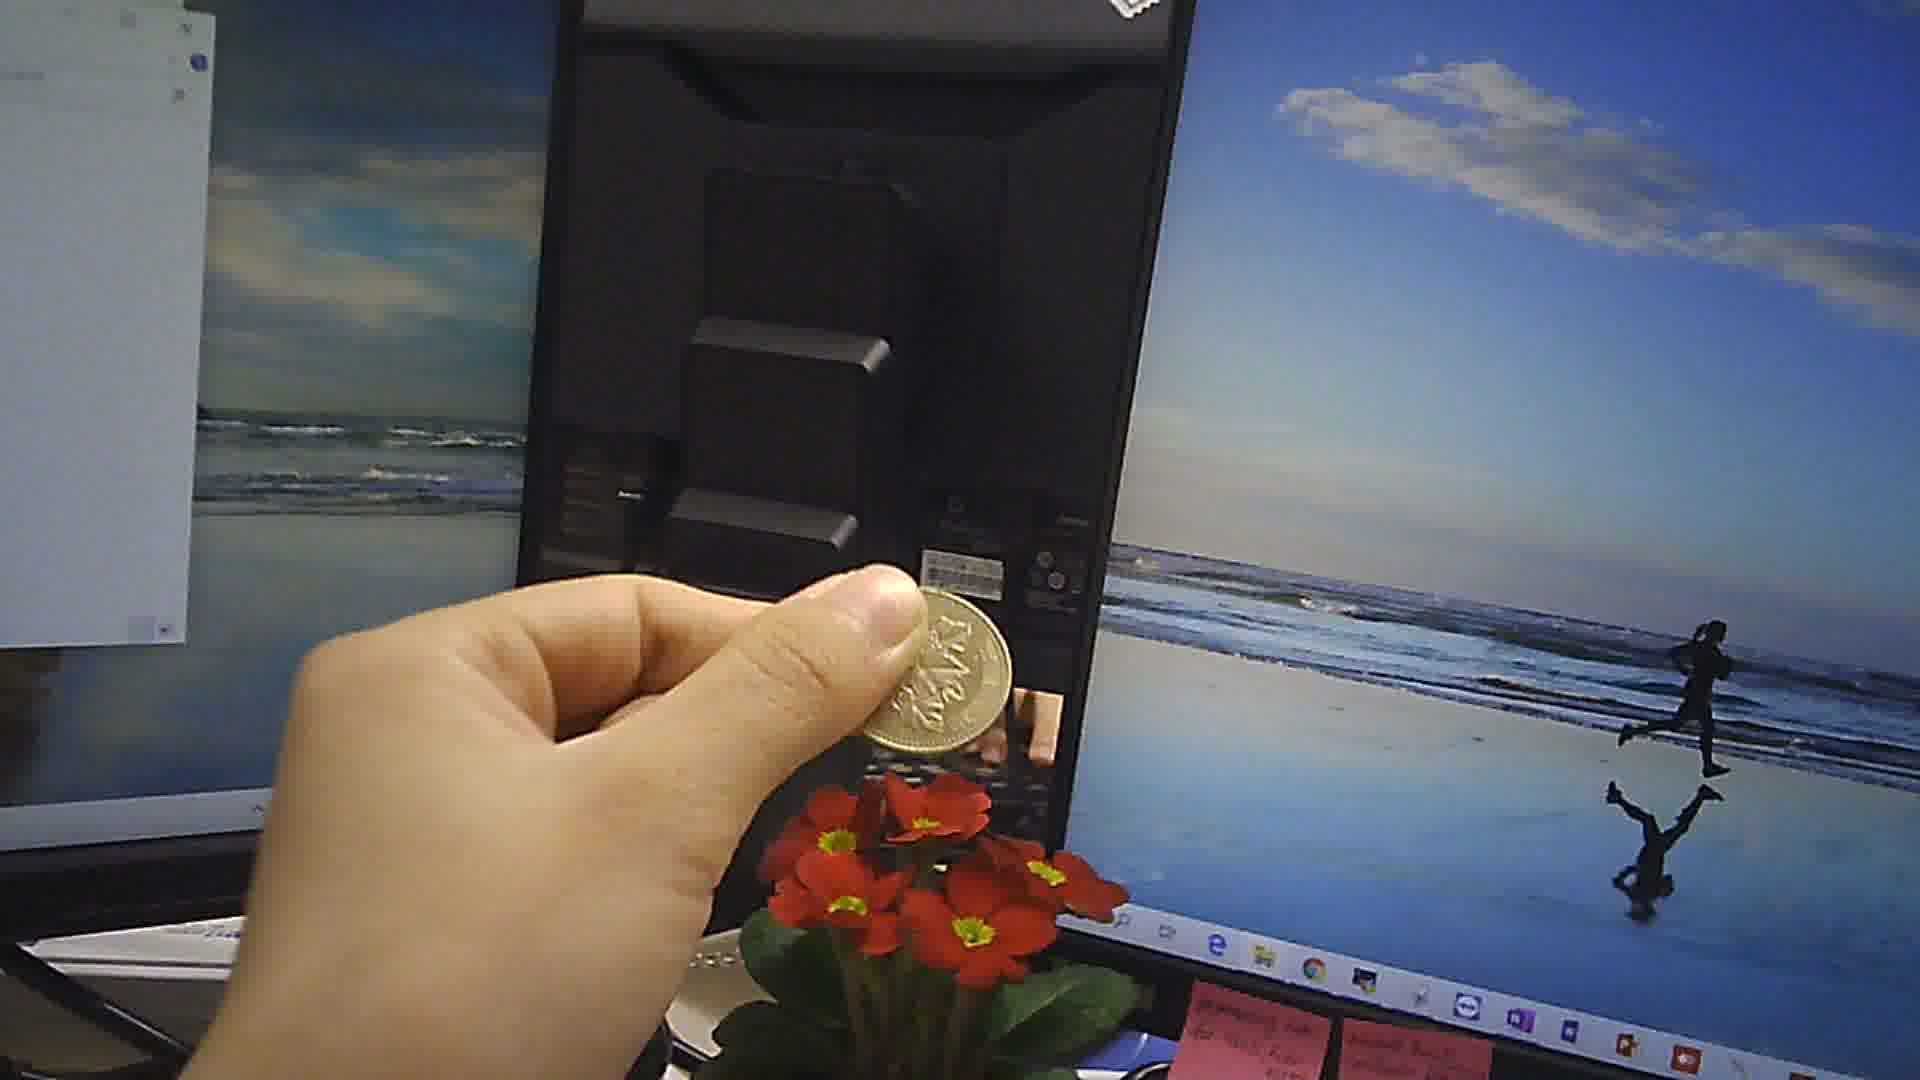500 Yen: (836, 572, 1013, 761)
